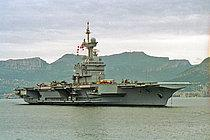MIL_Ship: (12, 20, 192, 107)
